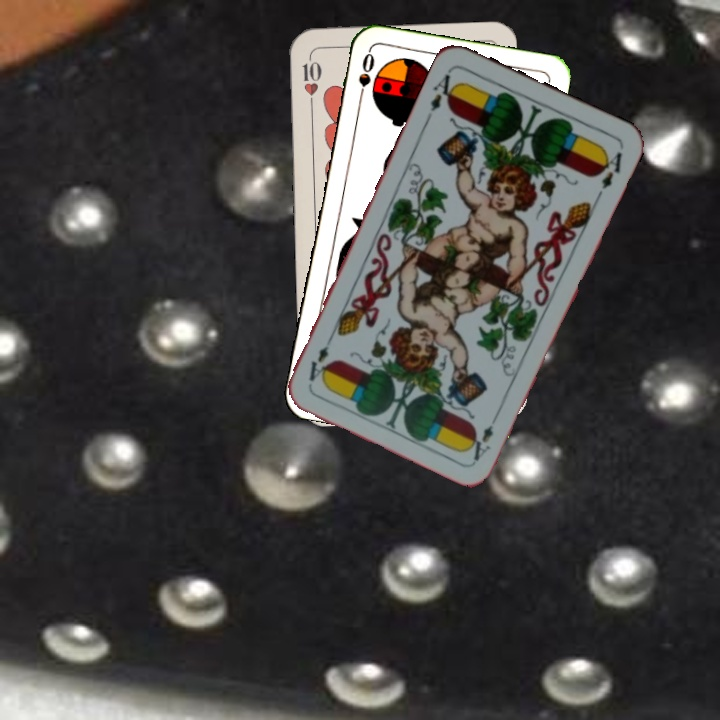EA: (467, 408, 502, 464), (426, 66, 461, 114)
H10: (298, 51, 323, 110)
SO: (354, 49, 377, 107)
